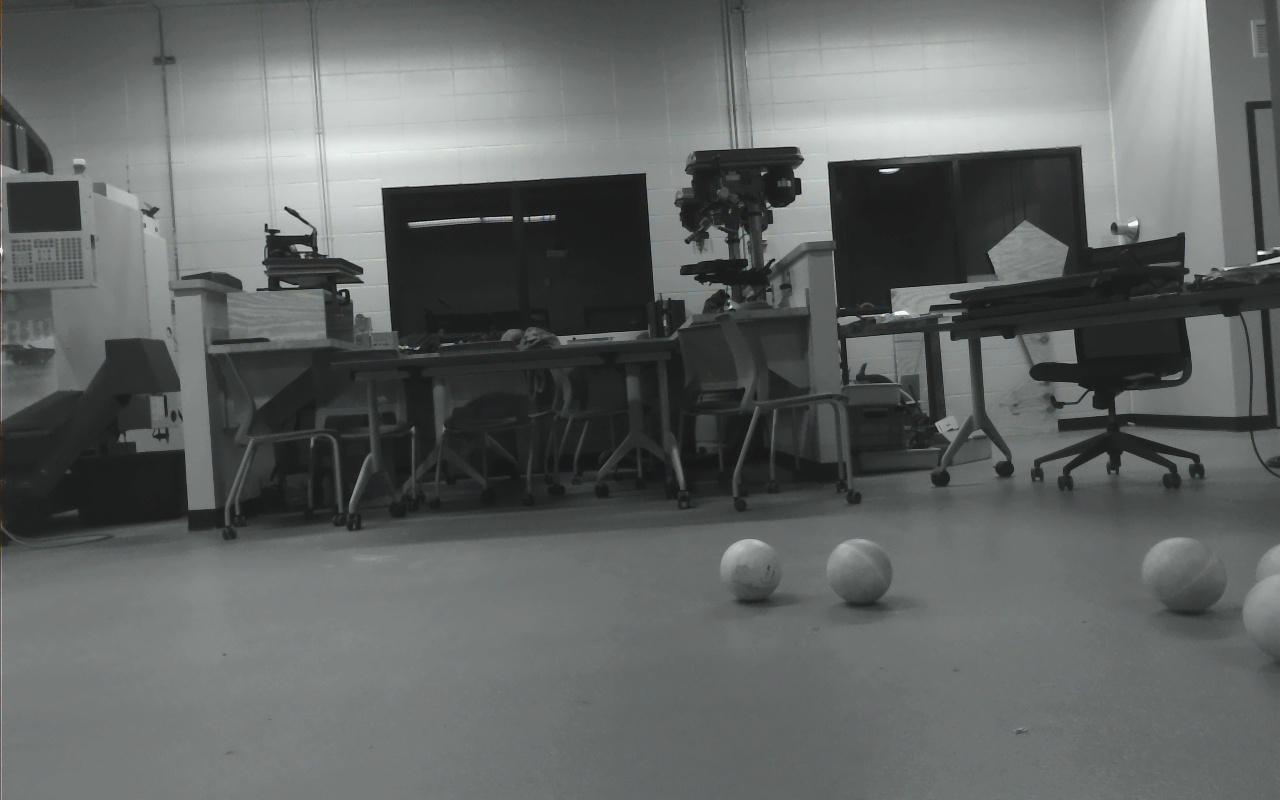Fuel: (1142, 535, 1229, 614), (827, 537, 892, 605), (721, 538, 783, 602), (1242, 574, 1280, 663), (1254, 543, 1280, 592)
